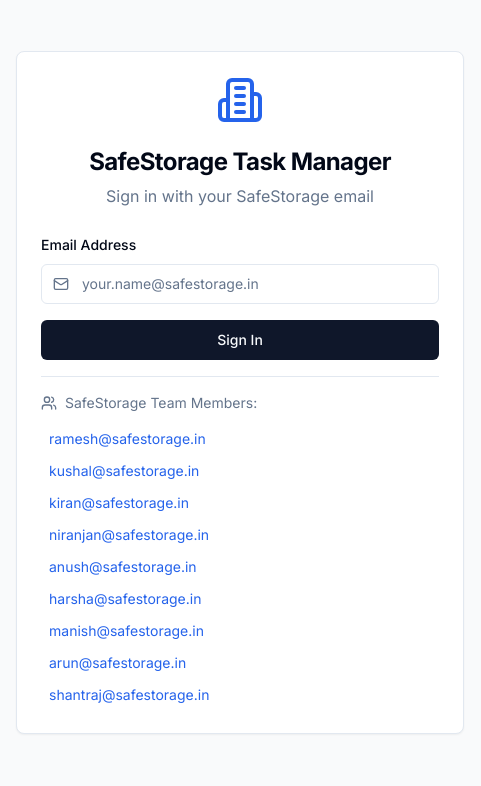
Scenario: LoginForm - 100% Coverage › Form Validation › shows error when email is empty
The width and height of the screenshot is (481, 786).
Click the button "Sign In" at (240, 340), box x1=41 y1=320 x2=439 y2=360
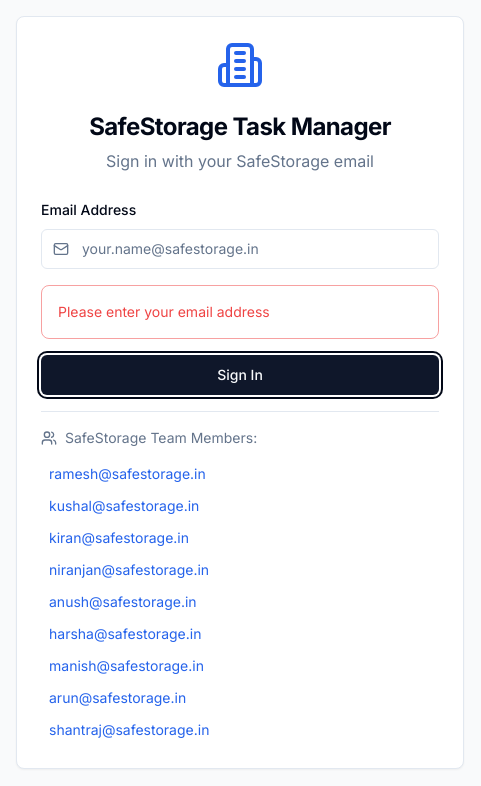
Check: the text "Please enter your email address" is shown, box x1=58 y1=302 x2=270 y2=320
